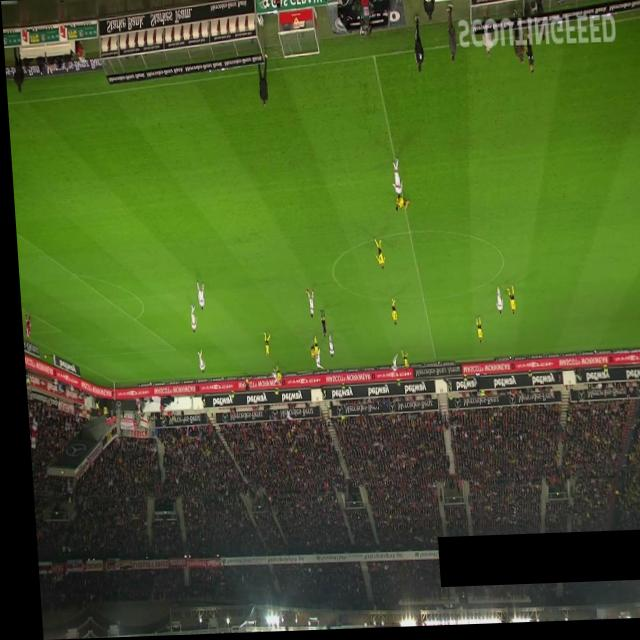goalkeeper: (19, 312, 27, 340)
player: (386, 160, 400, 202), (369, 240, 381, 273), (501, 288, 511, 318), (191, 281, 201, 311), (301, 291, 310, 320), (257, 333, 267, 358), (490, 288, 498, 318), (184, 305, 192, 334), (309, 349, 318, 374), (469, 318, 477, 346), (384, 299, 392, 327), (391, 197, 403, 213), (191, 350, 199, 374), (395, 352, 404, 372), (322, 335, 329, 360), (385, 355, 393, 375), (395, 199, 406, 213), (269, 365, 276, 385), (308, 336, 313, 362), (265, 369, 272, 385), (304, 344, 309, 362)
referee: (521, 33, 532, 77), (314, 311, 321, 339), (238, 374, 243, 396)
